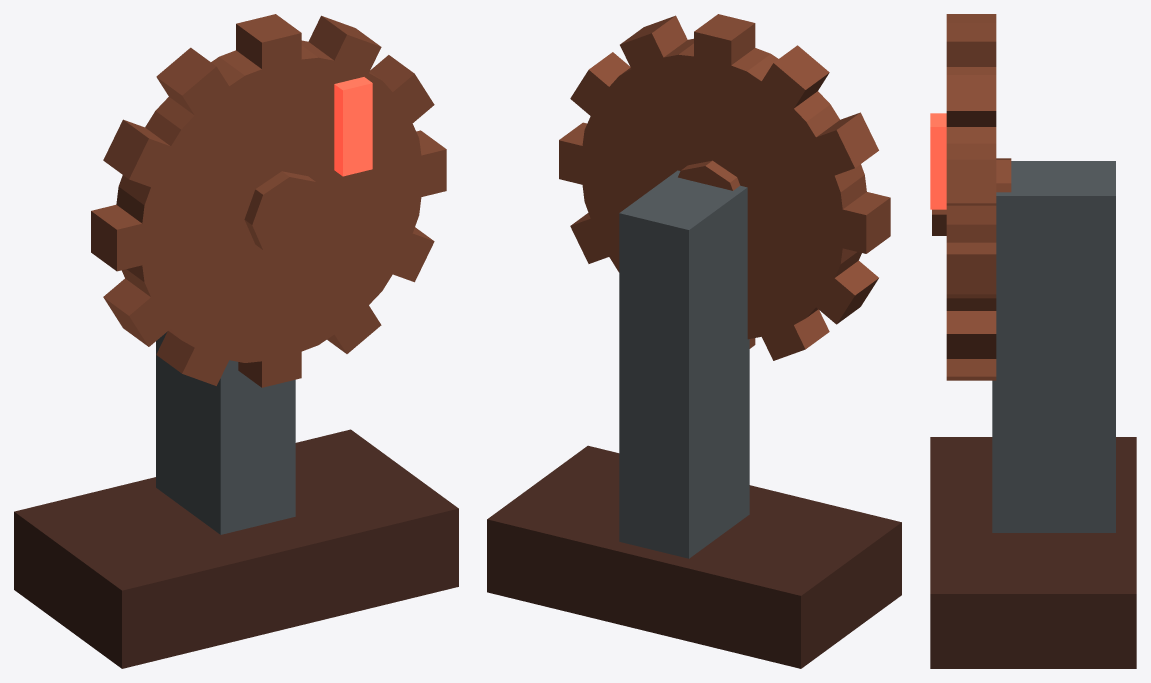
File: cog_door.glb
The picture shows the model from 3 angles, left to right: view 1: azimuth 30°, elevation 25°; view 2: azimuth 150°, elevation 25°; view 3: azimuth 270°, elevation 25°; orthographic projection. The views are drawn at different scales.
Visible parts, largest first — view 1: cog, cog_mount, cog_post, cog_slot_emit; view 2: cog, cog_mount, cog_post; view 3: cog_post, cog_mount, cog, cog_slot_emit.
Boxes of the visible parts, box(x1,y1,x2,y2) form: cog: box(91, 14, 446, 387); cog_mount: box(14, 429, 458, 668); cog_post: box(156, 331, 295, 534); cog_slot_emit: box(334, 77, 372, 176); cog: box(559, 14, 890, 360); cog_mount: box(487, 445, 901, 668); cog_post: box(619, 170, 749, 558); cog_post: box(992, 161, 1115, 532); cog_mount: box(930, 437, 1136, 668); cog: box(932, 14, 1011, 380); cog_slot_emit: box(930, 113, 946, 209).
Bounding box in the file's own units: 0.9 × 1.49 × 0.5.
